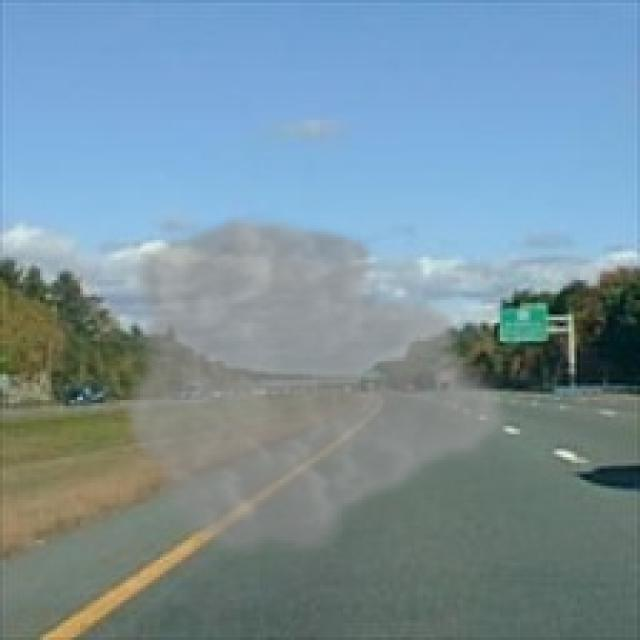smoke: (120, 211, 517, 566)
